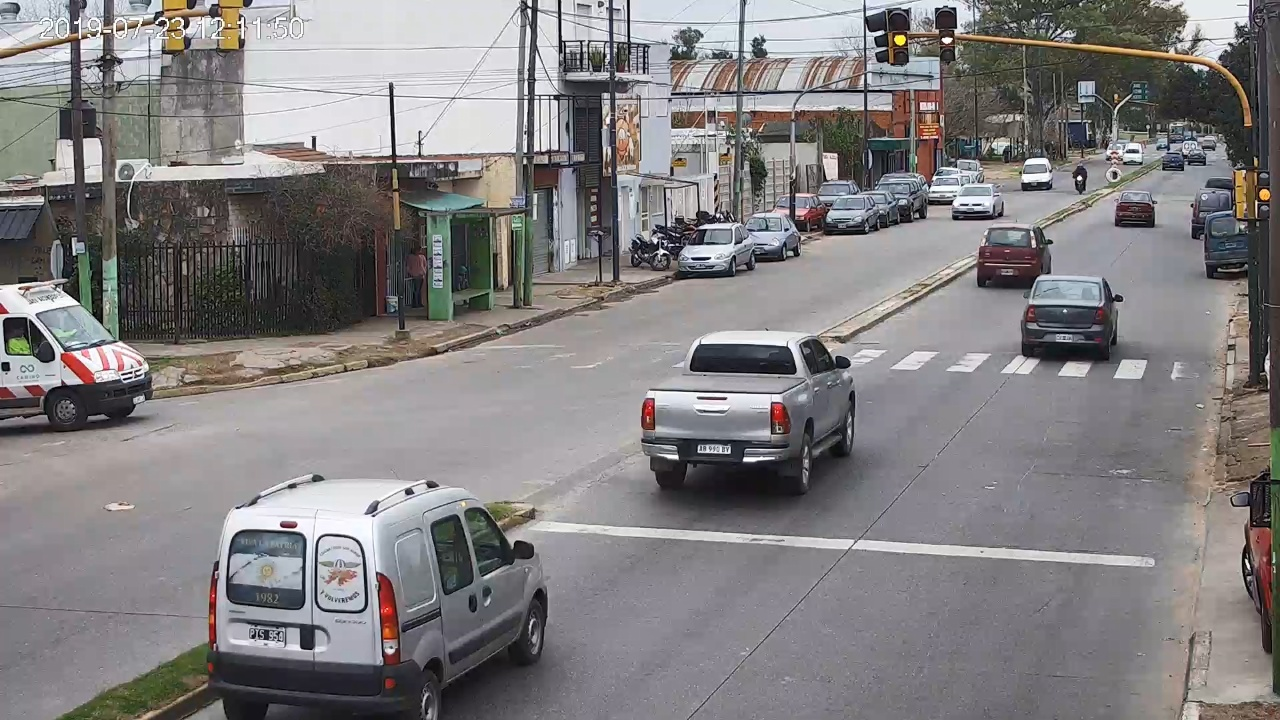car: (208, 475, 549, 720), (641, 330, 856, 493), (1020, 274, 1124, 360), (1114, 191, 1158, 227)
traffic light: (935, 8, 957, 61), (888, 9, 909, 64)
